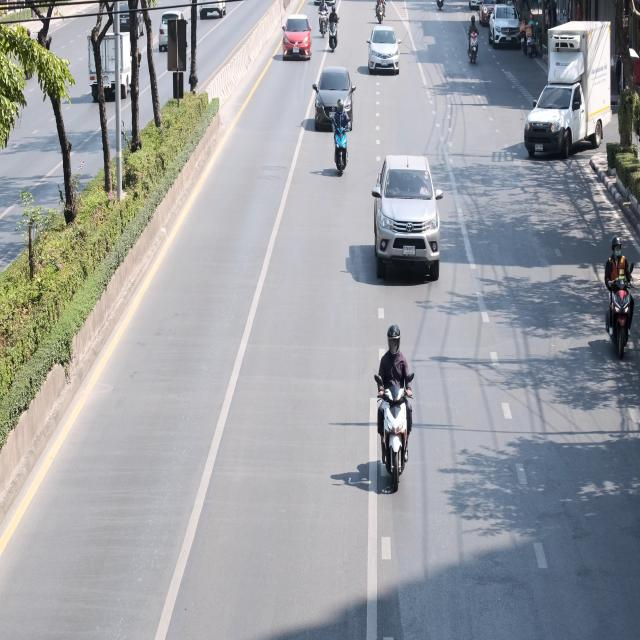cars: (514, 16, 622, 186), (364, 132, 453, 300), (86, 21, 153, 102), (313, 59, 359, 145), (360, 21, 406, 85), (156, 3, 193, 71), (278, 16, 315, 67), (490, 4, 520, 58), (195, 0, 230, 44), (480, 0, 500, 34)
motorcycle: (366, 313, 426, 520), (601, 212, 637, 378), (328, 92, 353, 194), (525, 18, 547, 66), (465, 14, 480, 84), (327, 0, 338, 58), (518, 20, 533, 50), (372, 0, 387, 28), (318, 0, 328, 40)
